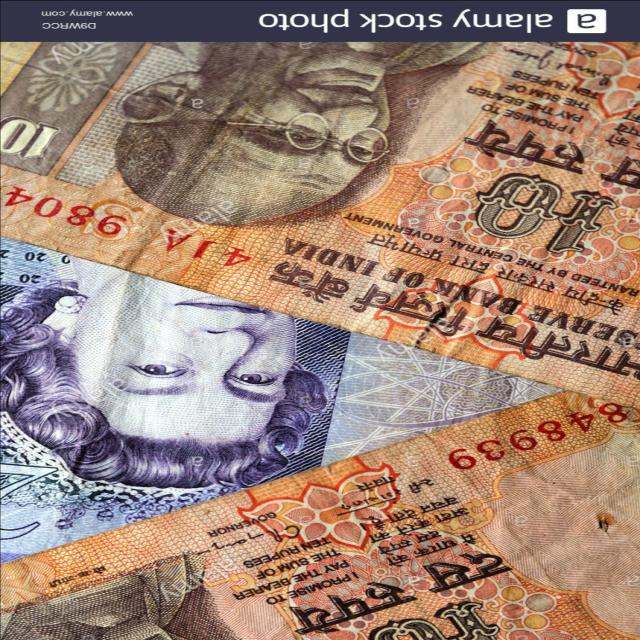10IndianRupees: (6, 44, 640, 400)
